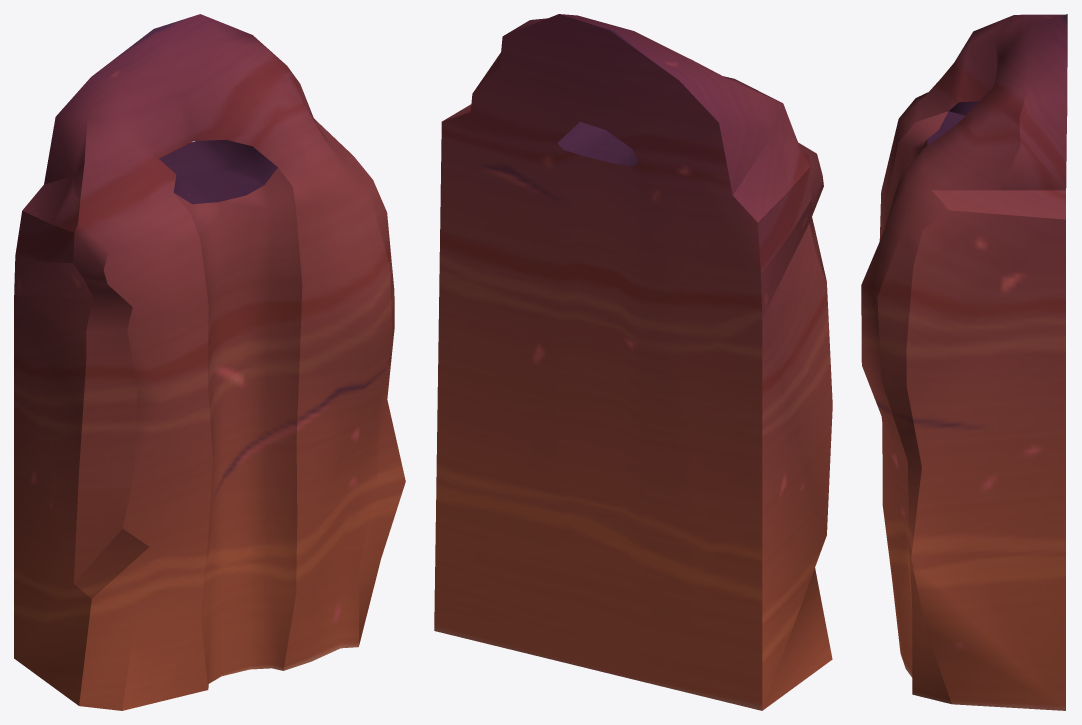
Rendered from SM_Cliff.fbx.
The picture shows the model from 3 angles, left to right: view 1: azimuth 30°, elevation 25°; view 2: azimuth 150°, elevation 25°; view 3: azimuth 270°, elevation 25°; orthographic projection. The views are drawn at different scales.
Visible parts, largest first — view 1: Cube.004; view 2: Cube.004; view 3: Cube.004.
Part boxes in pixels (x1,y1,x2,y2): Cube.004: (14,14,405,710); Cube.004: (434,14,832,710); Cube.004: (861,14,1067,710).
Size of the model in its own units: 419 by 755 by 228.
